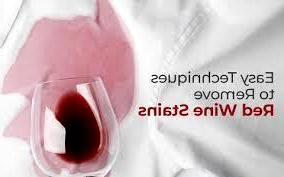wine: (5, 6, 136, 112), (9, 99, 33, 147)
